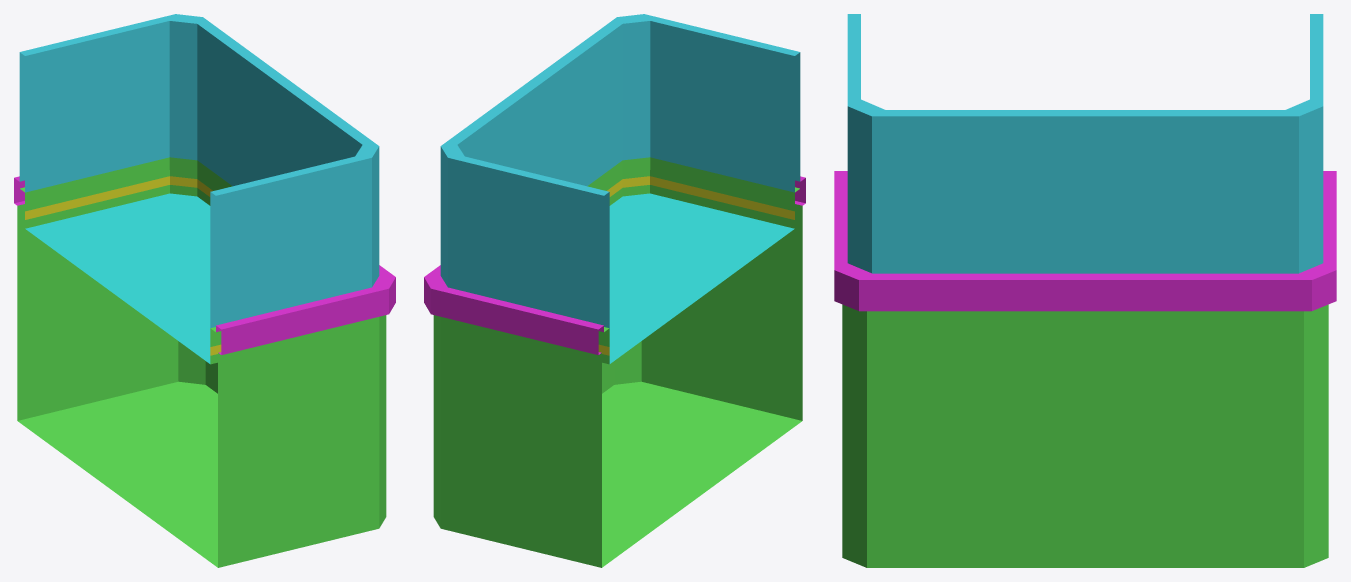
The model's file is Flower_Bed_03_Edge.fbx.
3 views of the same model, side by side, from view 1: azimuth 30°, elevation 25°; view 2: azimuth 150°, elevation 25°; view 3: azimuth 270°, elevation 25° (orthographic). The views are drawn at different scales.
Parts seen in each view (by area): view 1: Flower_Bed_03_Edge, Flower_Bed_03_Edge_Glass; view 2: Flower_Bed_03_Edge, Flower_Bed_03_Edge_Glass; view 3: Flower_Bed_03_Edge, Flower_Bed_03_Edge_Glass.
Part boxes in pixels (box(x1,y1,x2,y2)): Flower_Bed_03_Edge: box(14, 157, 395, 567); Flower_Bed_03_Edge_Glass: box(19, 14, 379, 328); Flower_Bed_03_Edge: box(424, 157, 805, 567); Flower_Bed_03_Edge_Glass: box(440, 14, 800, 328); Flower_Bed_03_Edge: box(834, 171, 1336, 567); Flower_Bed_03_Edge_Glass: box(847, 14, 1323, 273).
Bounding box in the file's own units: 64.72 × 124 × 126.
